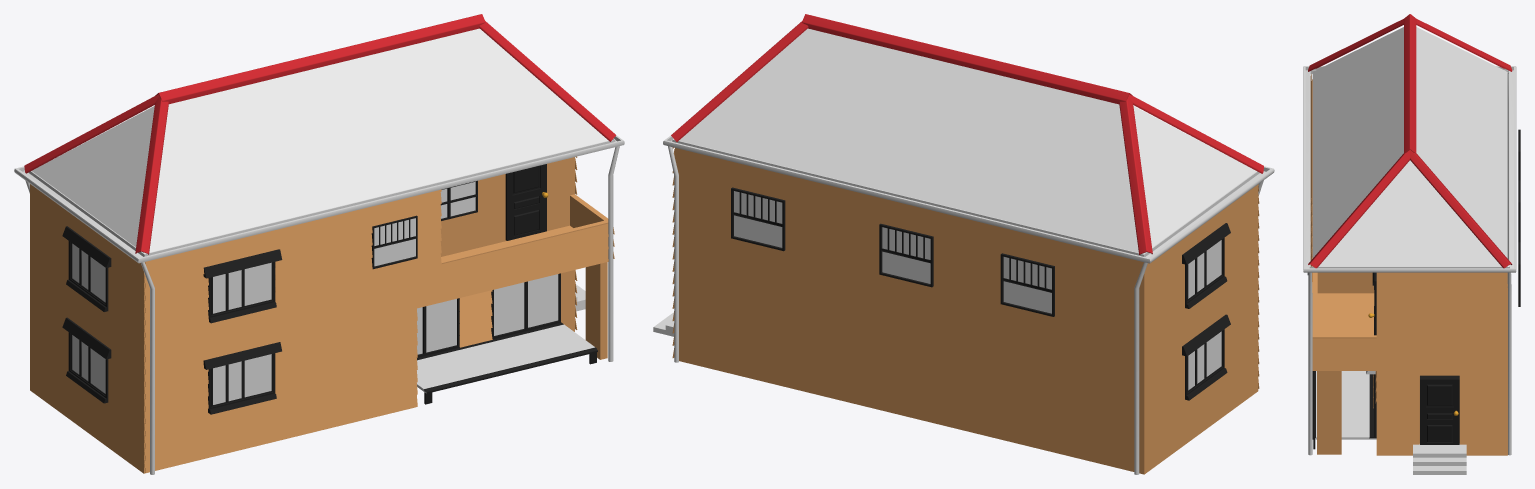
The model's file is Package.glb.
3 views of the same model, side by side, from view 1: azimuth 30°, elevation 25°; view 2: azimuth 150°, elevation 25°; view 3: azimuth 270°, elevation 25° (orthographic). The views are drawn at different scales.
Parts seen in each view (by area): view 1: Cube.031; view 2: Cube.031; view 3: Cube.031.
Boxes of the visible parts, x1,y1,x2,y2 form: Cube.031: [14, 14, 624, 474]; Cube.031: [653, 14, 1274, 474]; Cube.031: [1303, 14, 1520, 474].
Bounding box in the file's own units: 55.51 × 32.55 × 23.21.
